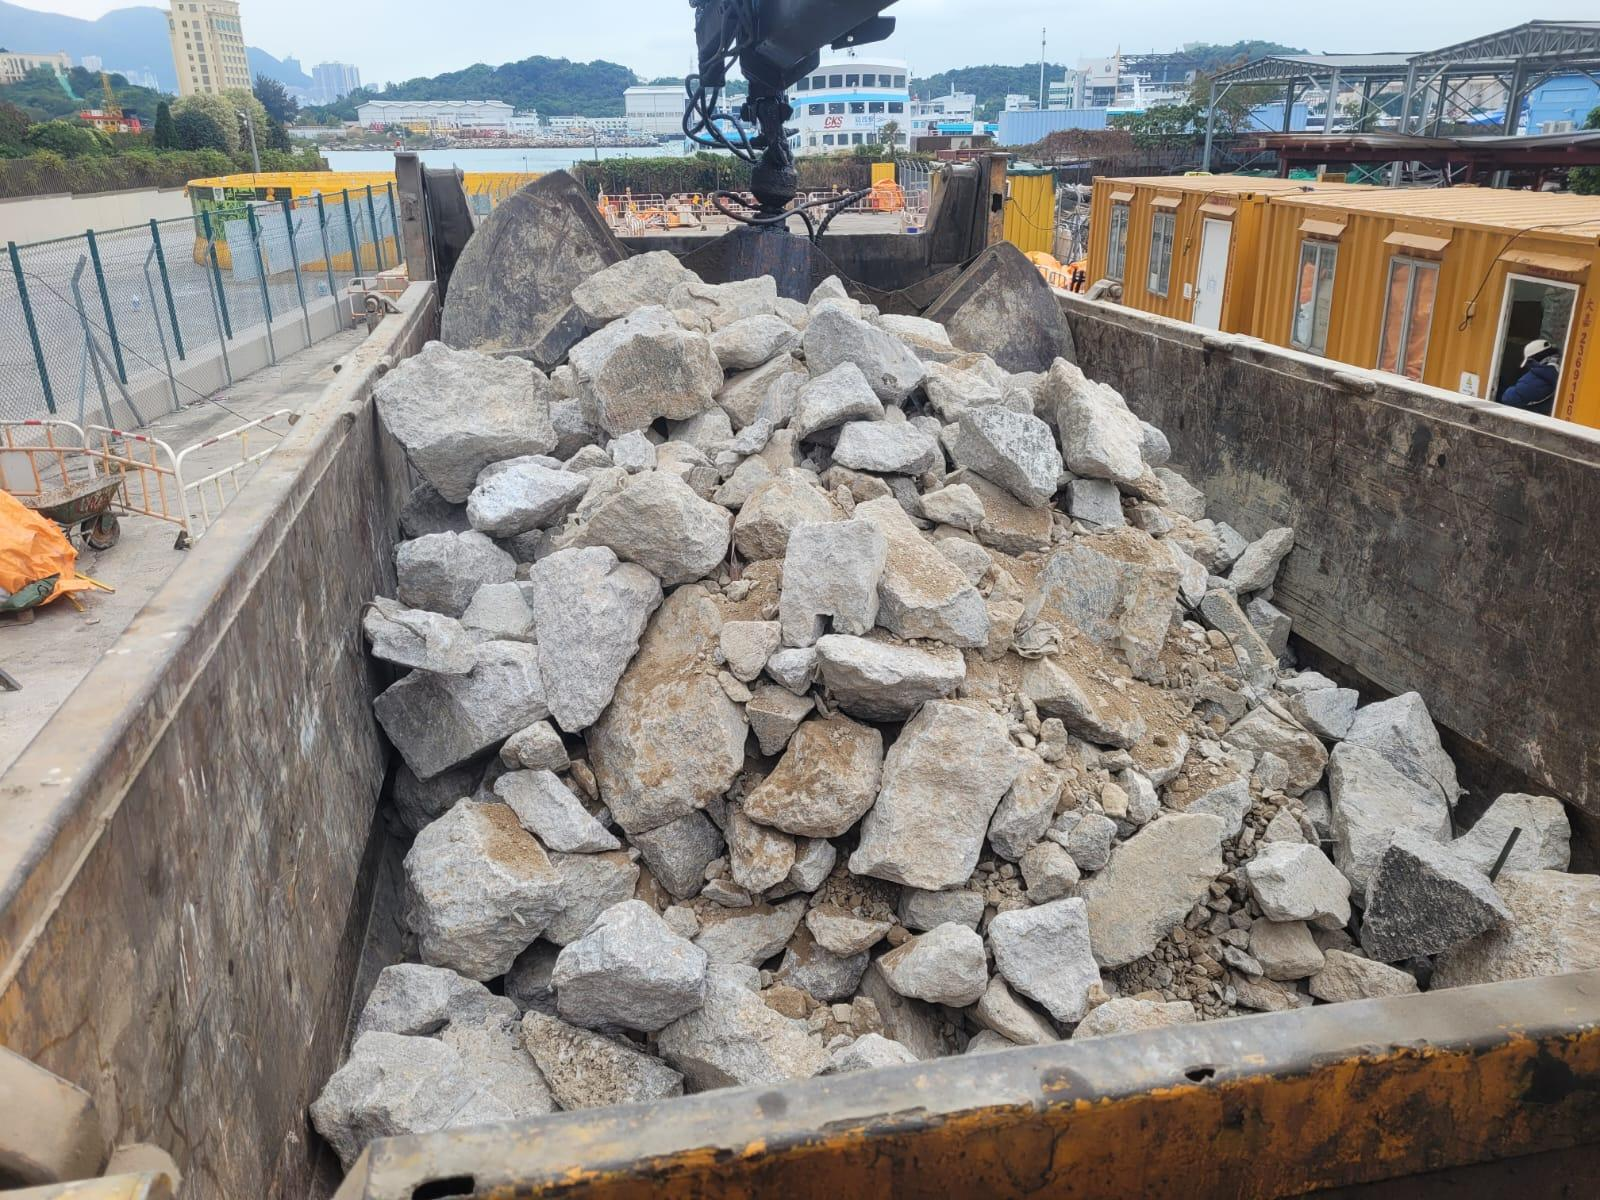dry: (334, 270, 1589, 1138)
